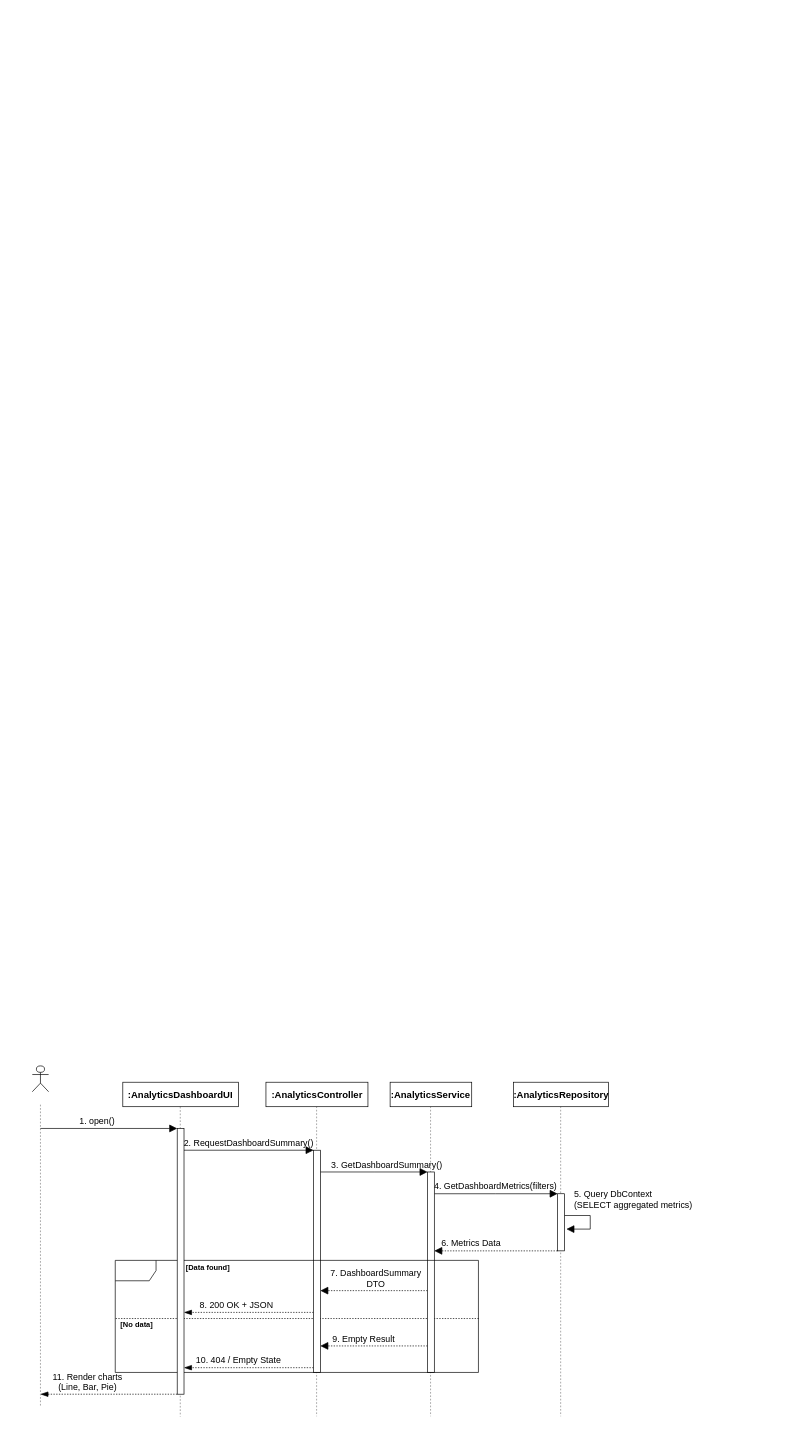
This 811x1446 diagram has some shape labels left out. The box of each missing label's shape, as (x1, y1, x2, y2) in pixels:
alt: (115, 1260, 478, 1372)
HR Manager: (32, 1065, 49, 1092)
